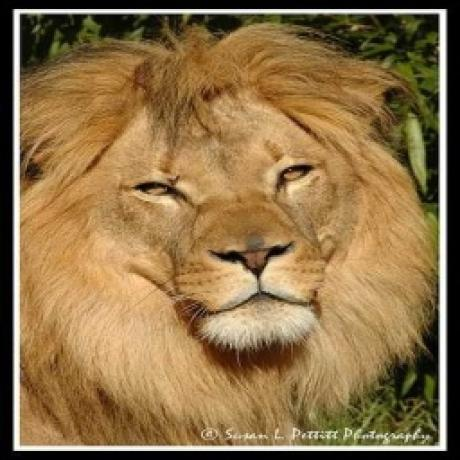Lion: (22, 22, 440, 446)
